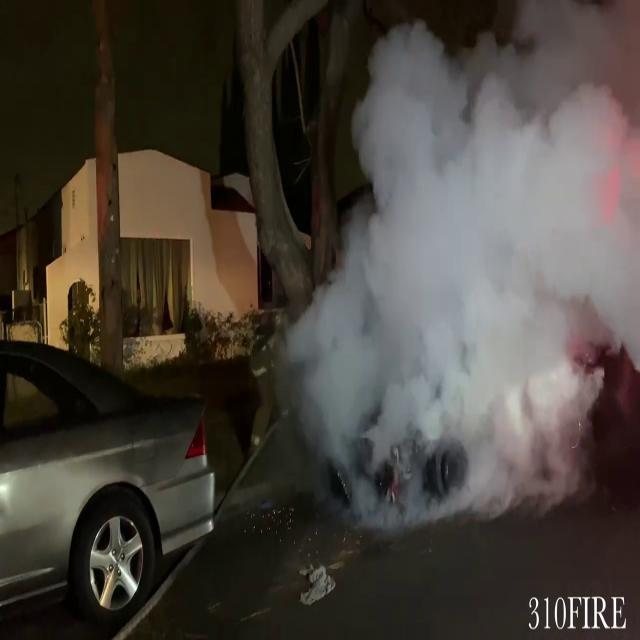Smoke: (296, 9, 640, 536)
